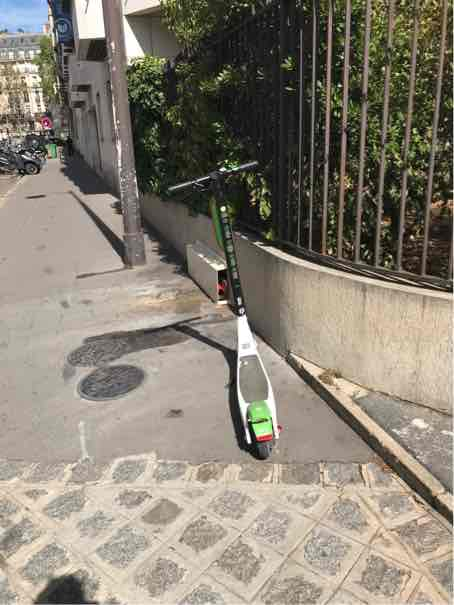scooter: (161, 148, 294, 466)
